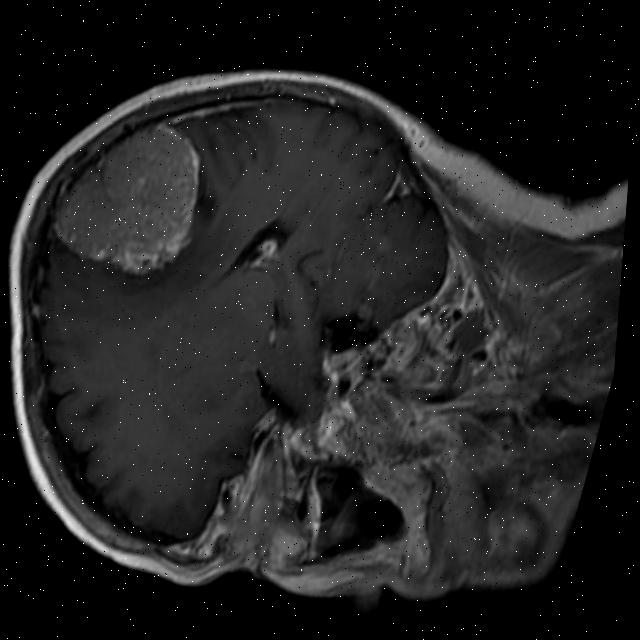Meningioma: (40, 98, 222, 290)
